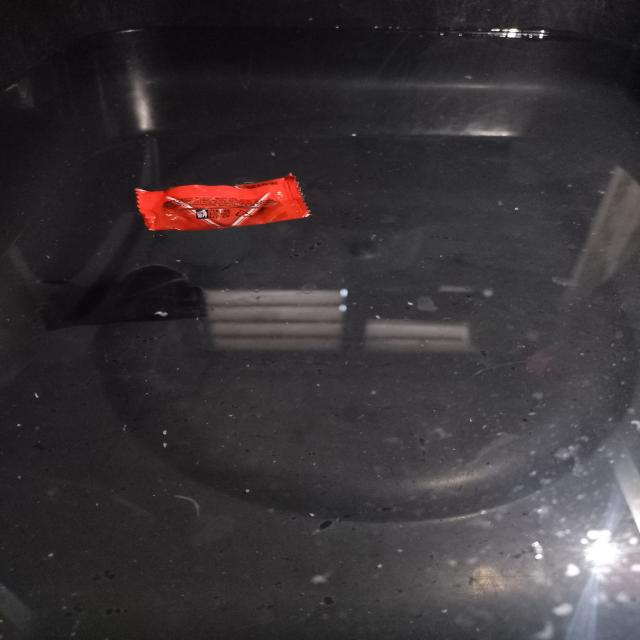Plastic Wrapper: (136, 174, 310, 230)
